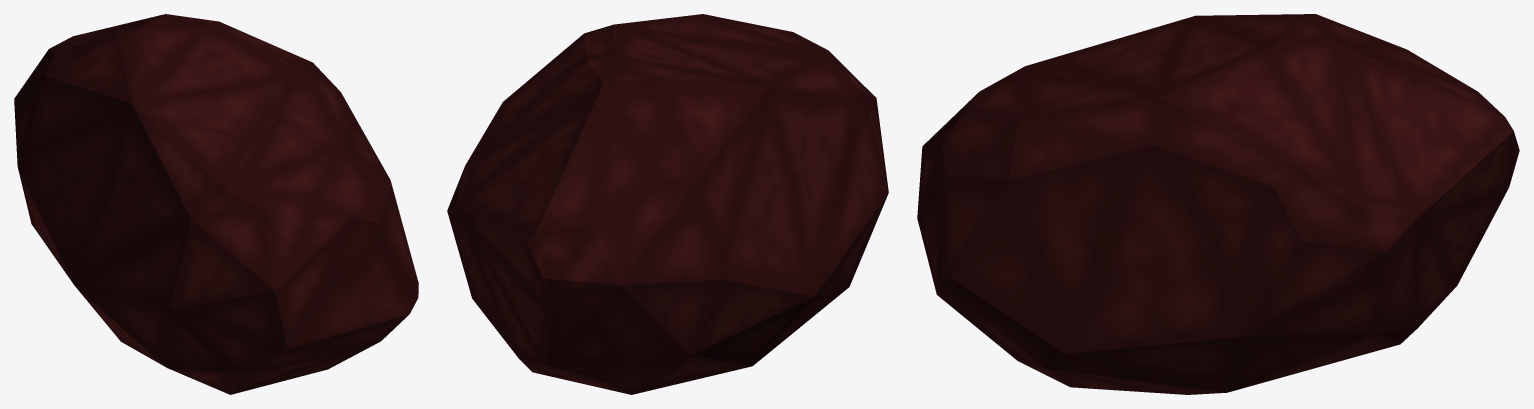
Rendered from pedregulho1.fbx.
The picture shows the model from 3 angles, left to right: view 1: azimuth 30°, elevation 25°; view 2: azimuth 150°, elevation 25°; view 3: azimuth 270°, elevation 25°; orthographic projection. The views are drawn at different scales.
Parts seen in each view (by area): view 1: PedregulhoG; view 2: PedregulhoG; view 3: PedregulhoG.
Part boxes in pixels (<box>): PedregulhoG: <box>14,14,418,394</box>; PedregulhoG: <box>447,14,888,394</box>; PedregulhoG: <box>917,14,1519,394</box>.
Bounding box in the file's own units: 788 × 789 × 1325.
